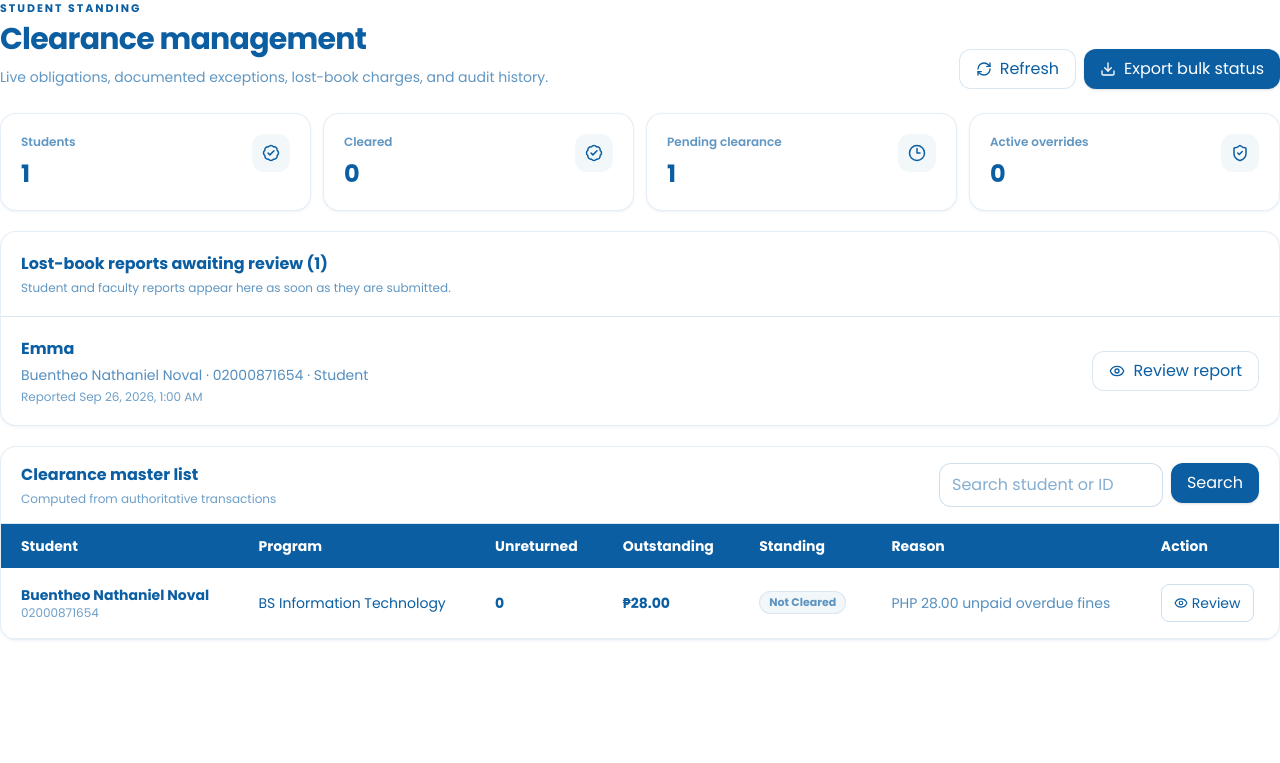
Test case: AdminClearancePage simplified exceptions › shows student lost reports in a review queue and opens the borrower record
Expected: the heading "Lost-book reports awaiting review (1)" is shown, [21, 252, 328, 274]
Expected: the text "Emma" is shown, [21, 336, 74, 360]
Click the button "Review report": (1176, 370) [1092, 350, 1259, 390]
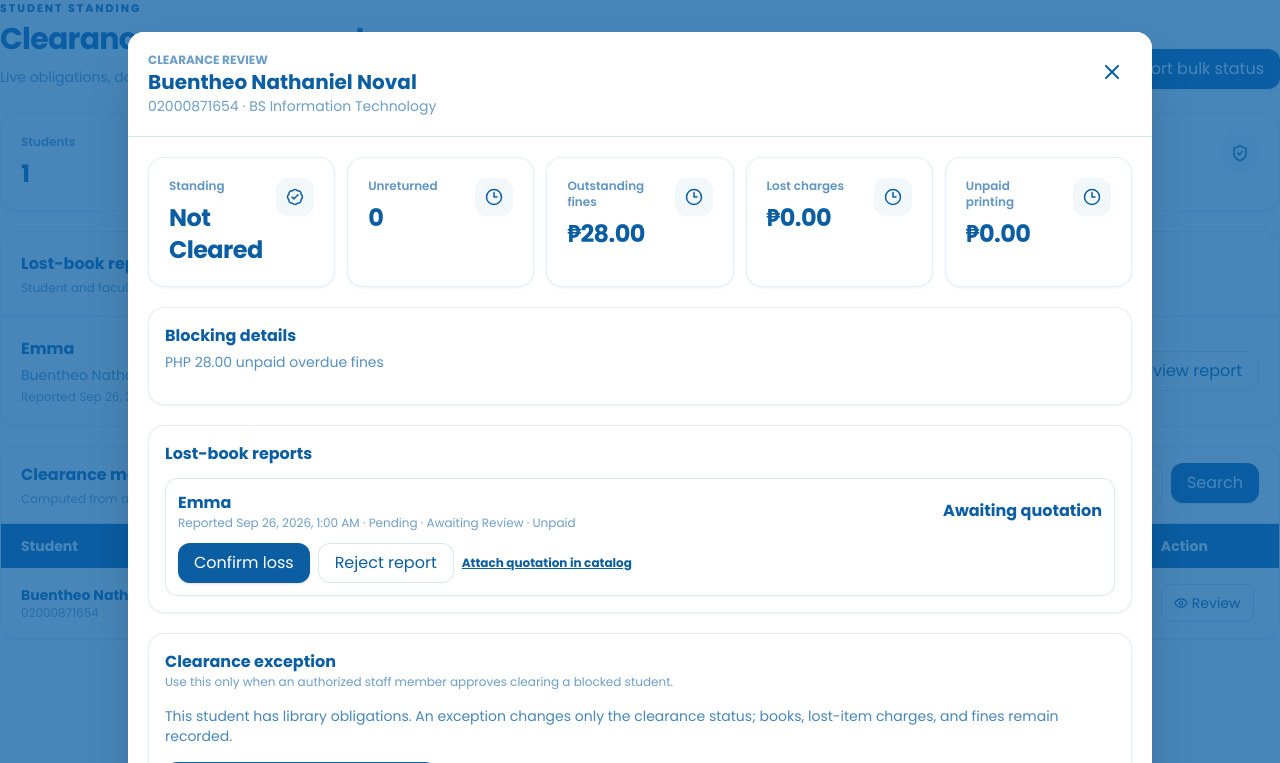
Expected: the heading "Lost-book reports" is shown, [165, 442, 312, 465]
Expected: the text "Awaiting quotation" is shown, [943, 499, 1102, 523]
